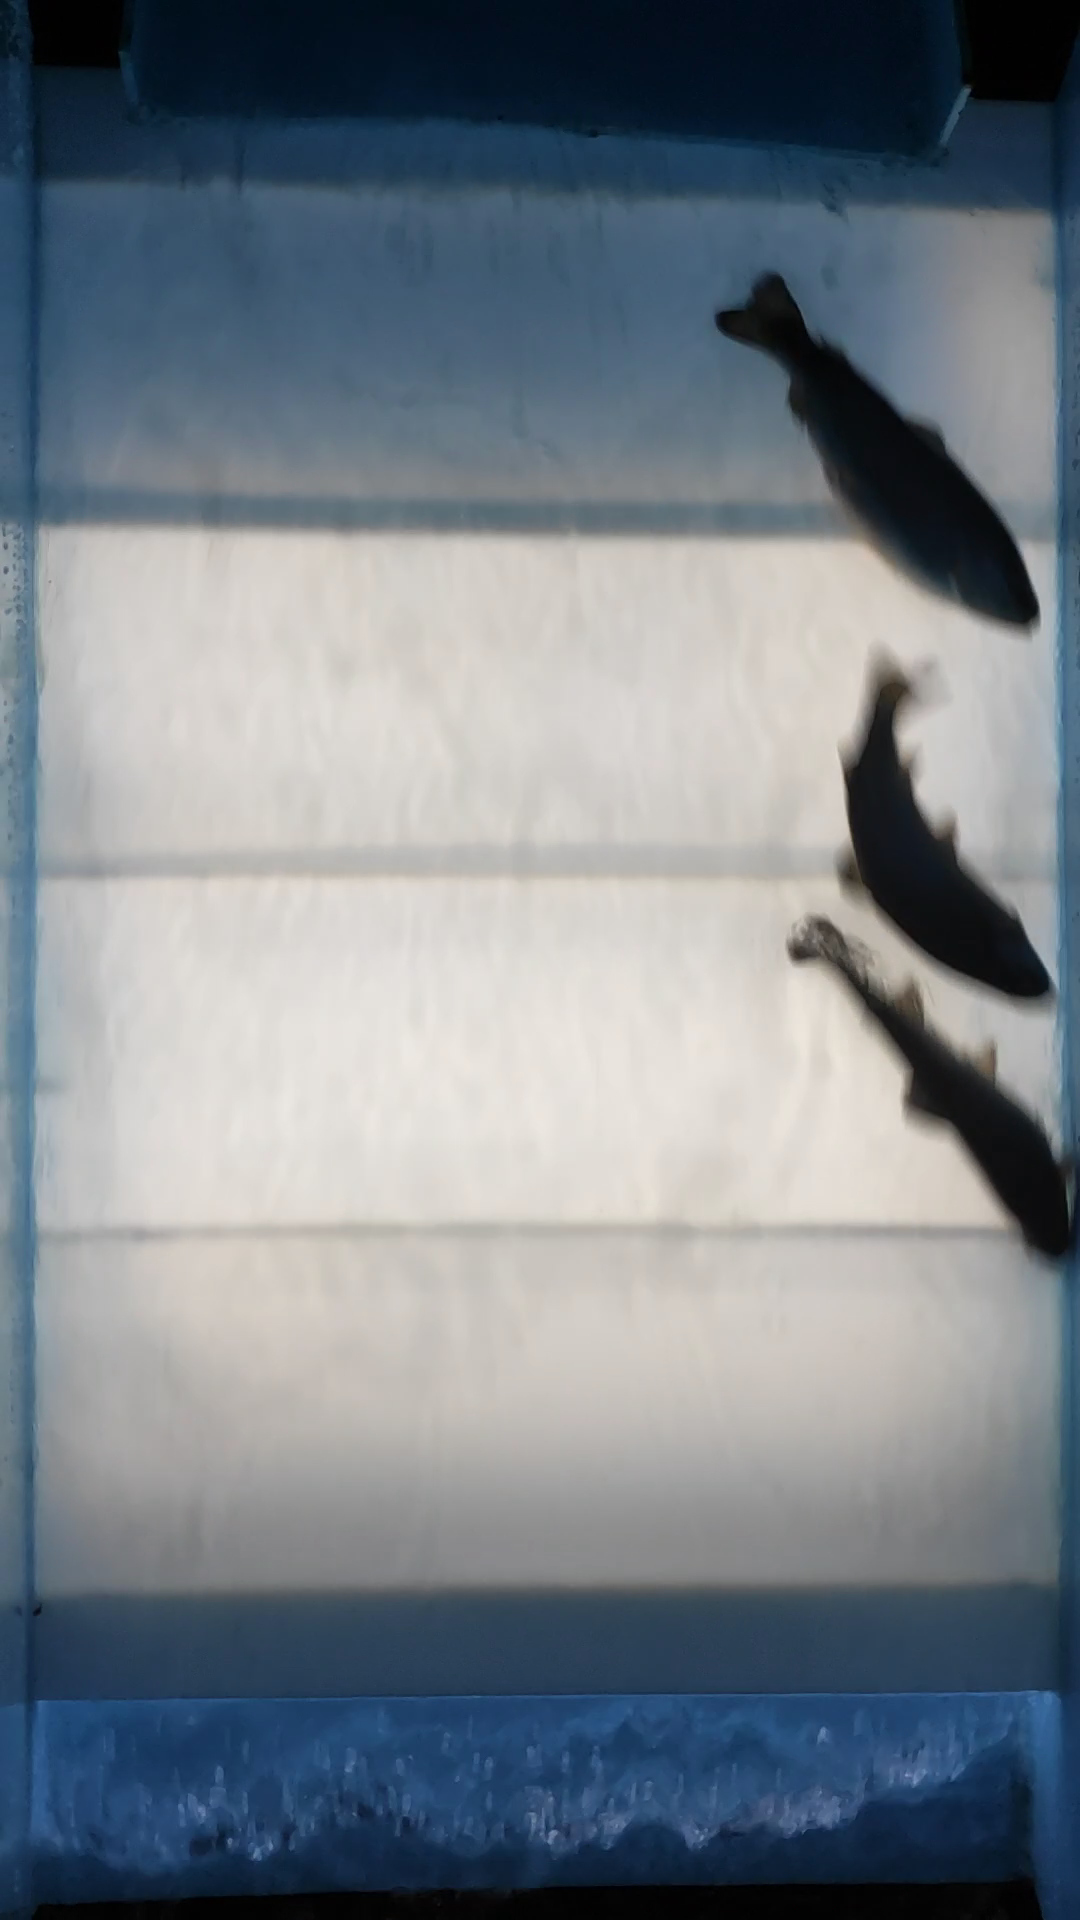fish: (707, 265, 1048, 636), (786, 909, 1080, 1276), (831, 640, 1051, 1006)
